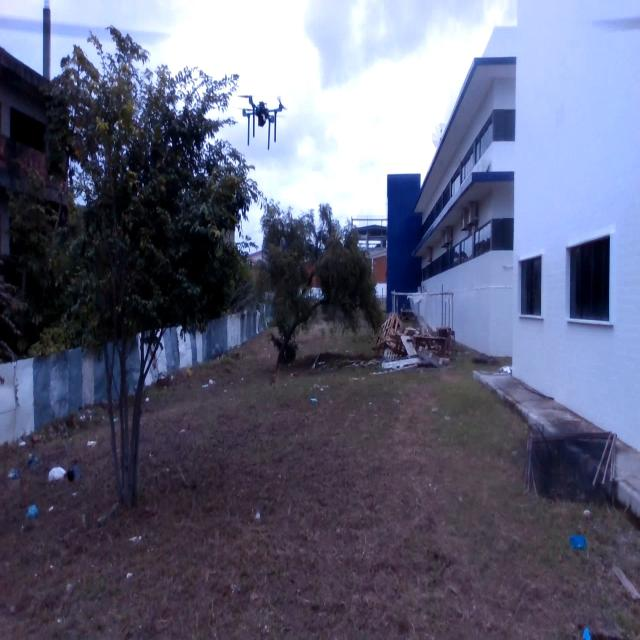-uav-: (239, 88, 290, 151)
